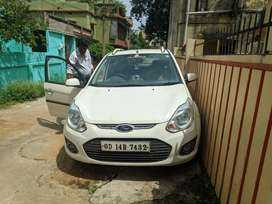OD14B7432: (101, 140, 149, 152)
